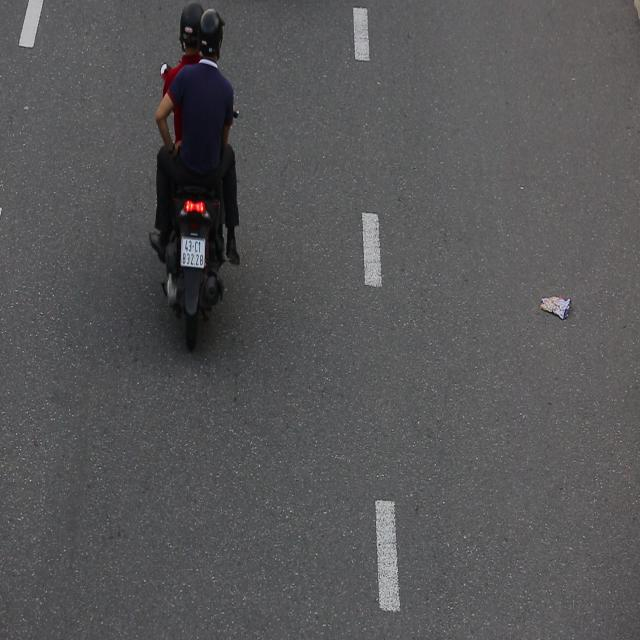motorbike: (137, 0, 255, 368)
